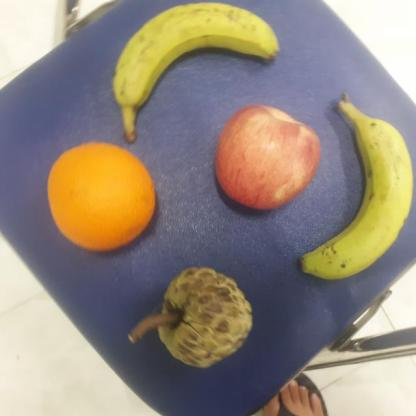annona: (157, 266, 254, 370)
apple: (212, 102, 326, 216)
banana: (299, 97, 416, 294), (109, 2, 281, 108)
orange: (44, 139, 161, 256)
